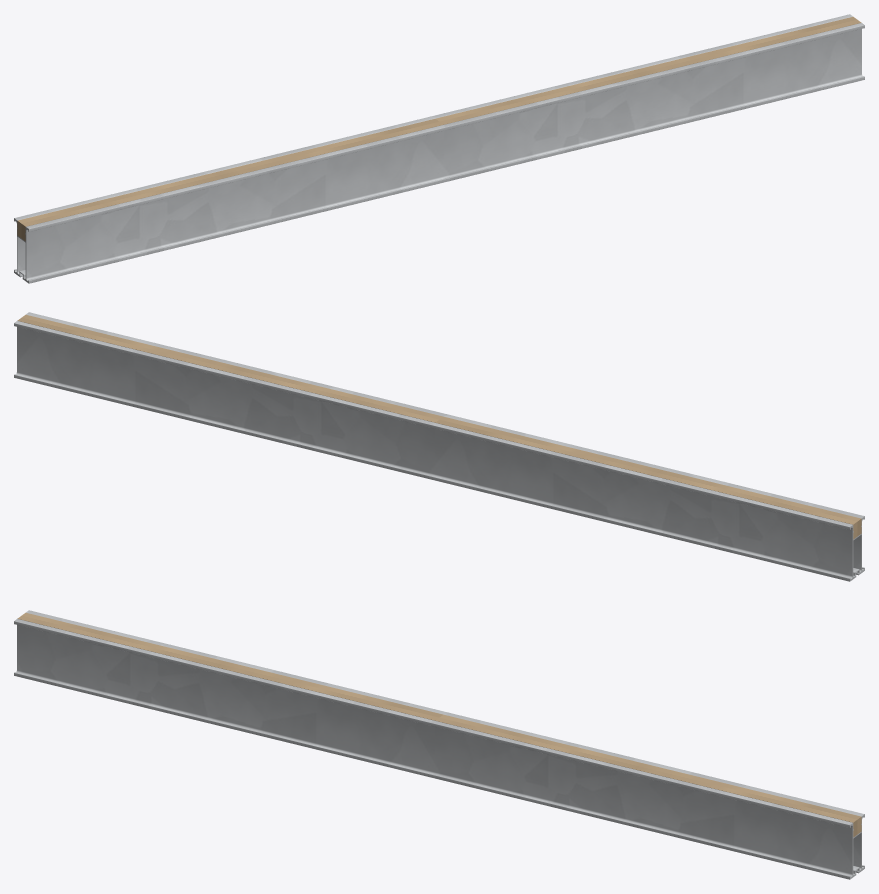
The model's file is allslim-beam.glb.
3 views of the same model, one above another, from view 1: azimuth 30°, elevation 25°; view 2: azimuth 150°, elevation 25°; view 3: azimuth 330°, elevation 25° (orthographic).
Parts seen in each view (by area): view 1: SteelSection, TimberInsert; view 2: SteelSection, TimberInsert; view 3: SteelSection, TimberInsert.
Boxes of the visible parts, <box> form: SteelSection: <box>14,14,864,283</box>; TimberInsert: <box>17,16,861,241</box>; SteelSection: <box>14,312,864,581</box>; TimberInsert: <box>17,314,861,539</box>; SteelSection: <box>14,610,864,879</box>; TimberInsert: <box>17,612,861,837</box>.
Bounding box in the file's own units: 2.4 × 0.15 × 0.075.
2 materials, 2 textured.
